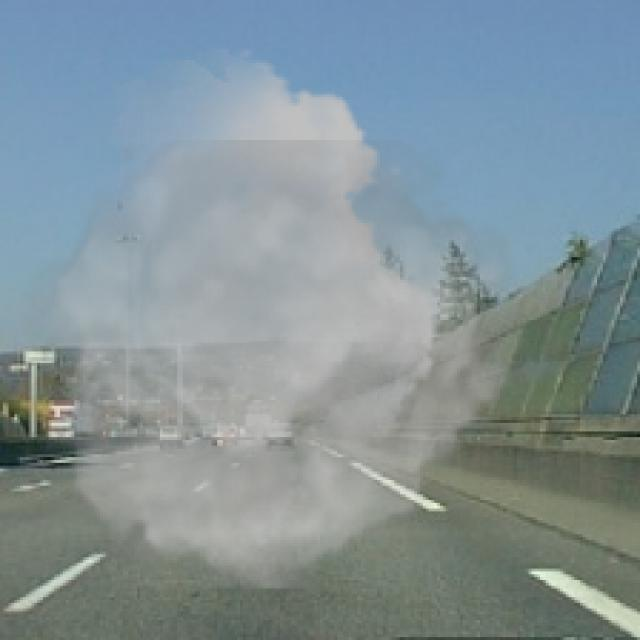smoke: (11, 49, 532, 588)
